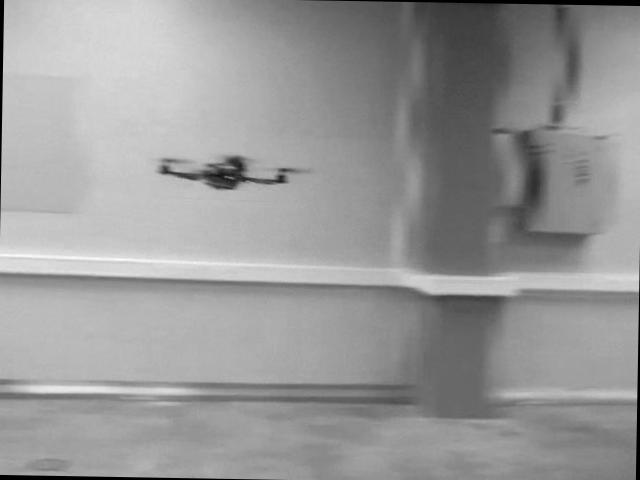drone: (150, 147, 306, 193)
